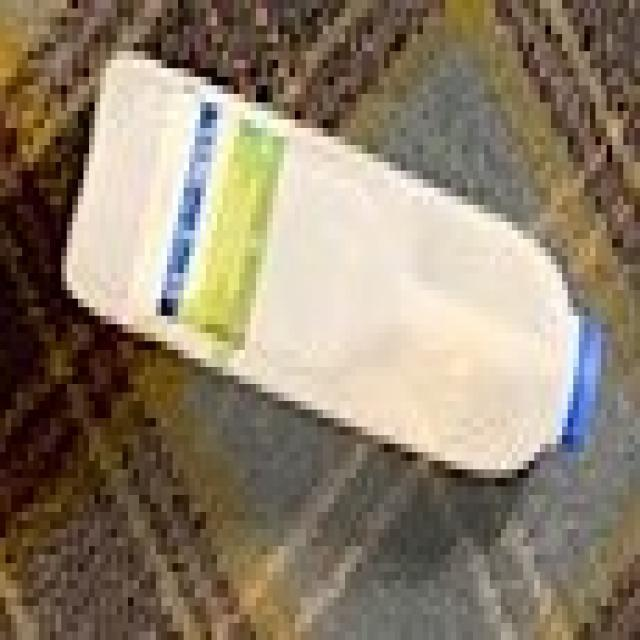HDPE Plastic: (54, 44, 607, 490)
